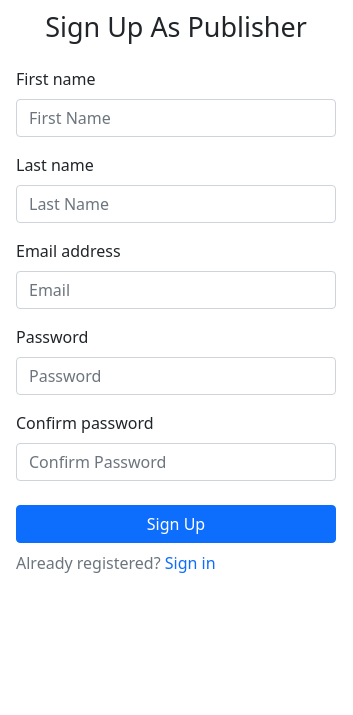
Testing SignUp component › Testing the component without filling any input
Click the button "Sign Up". click: (176, 524)
box: [16,505,336,543]
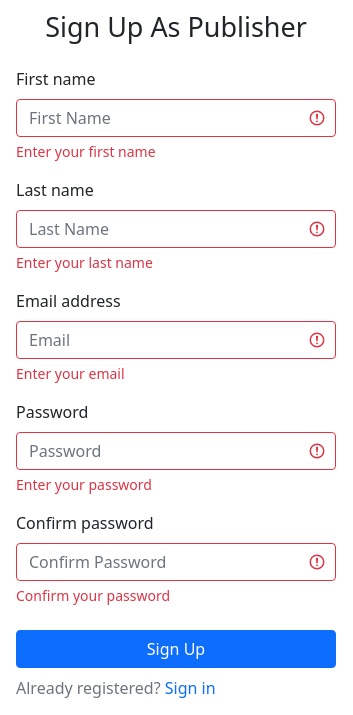
Expected: the text "Enter your first name" is shown, [16,142,156,161]
Expected: the text "Enter your last name" is shown, [16,253,153,272]
Expected: the text "Enter your email" is shown, [16,364,125,383]
